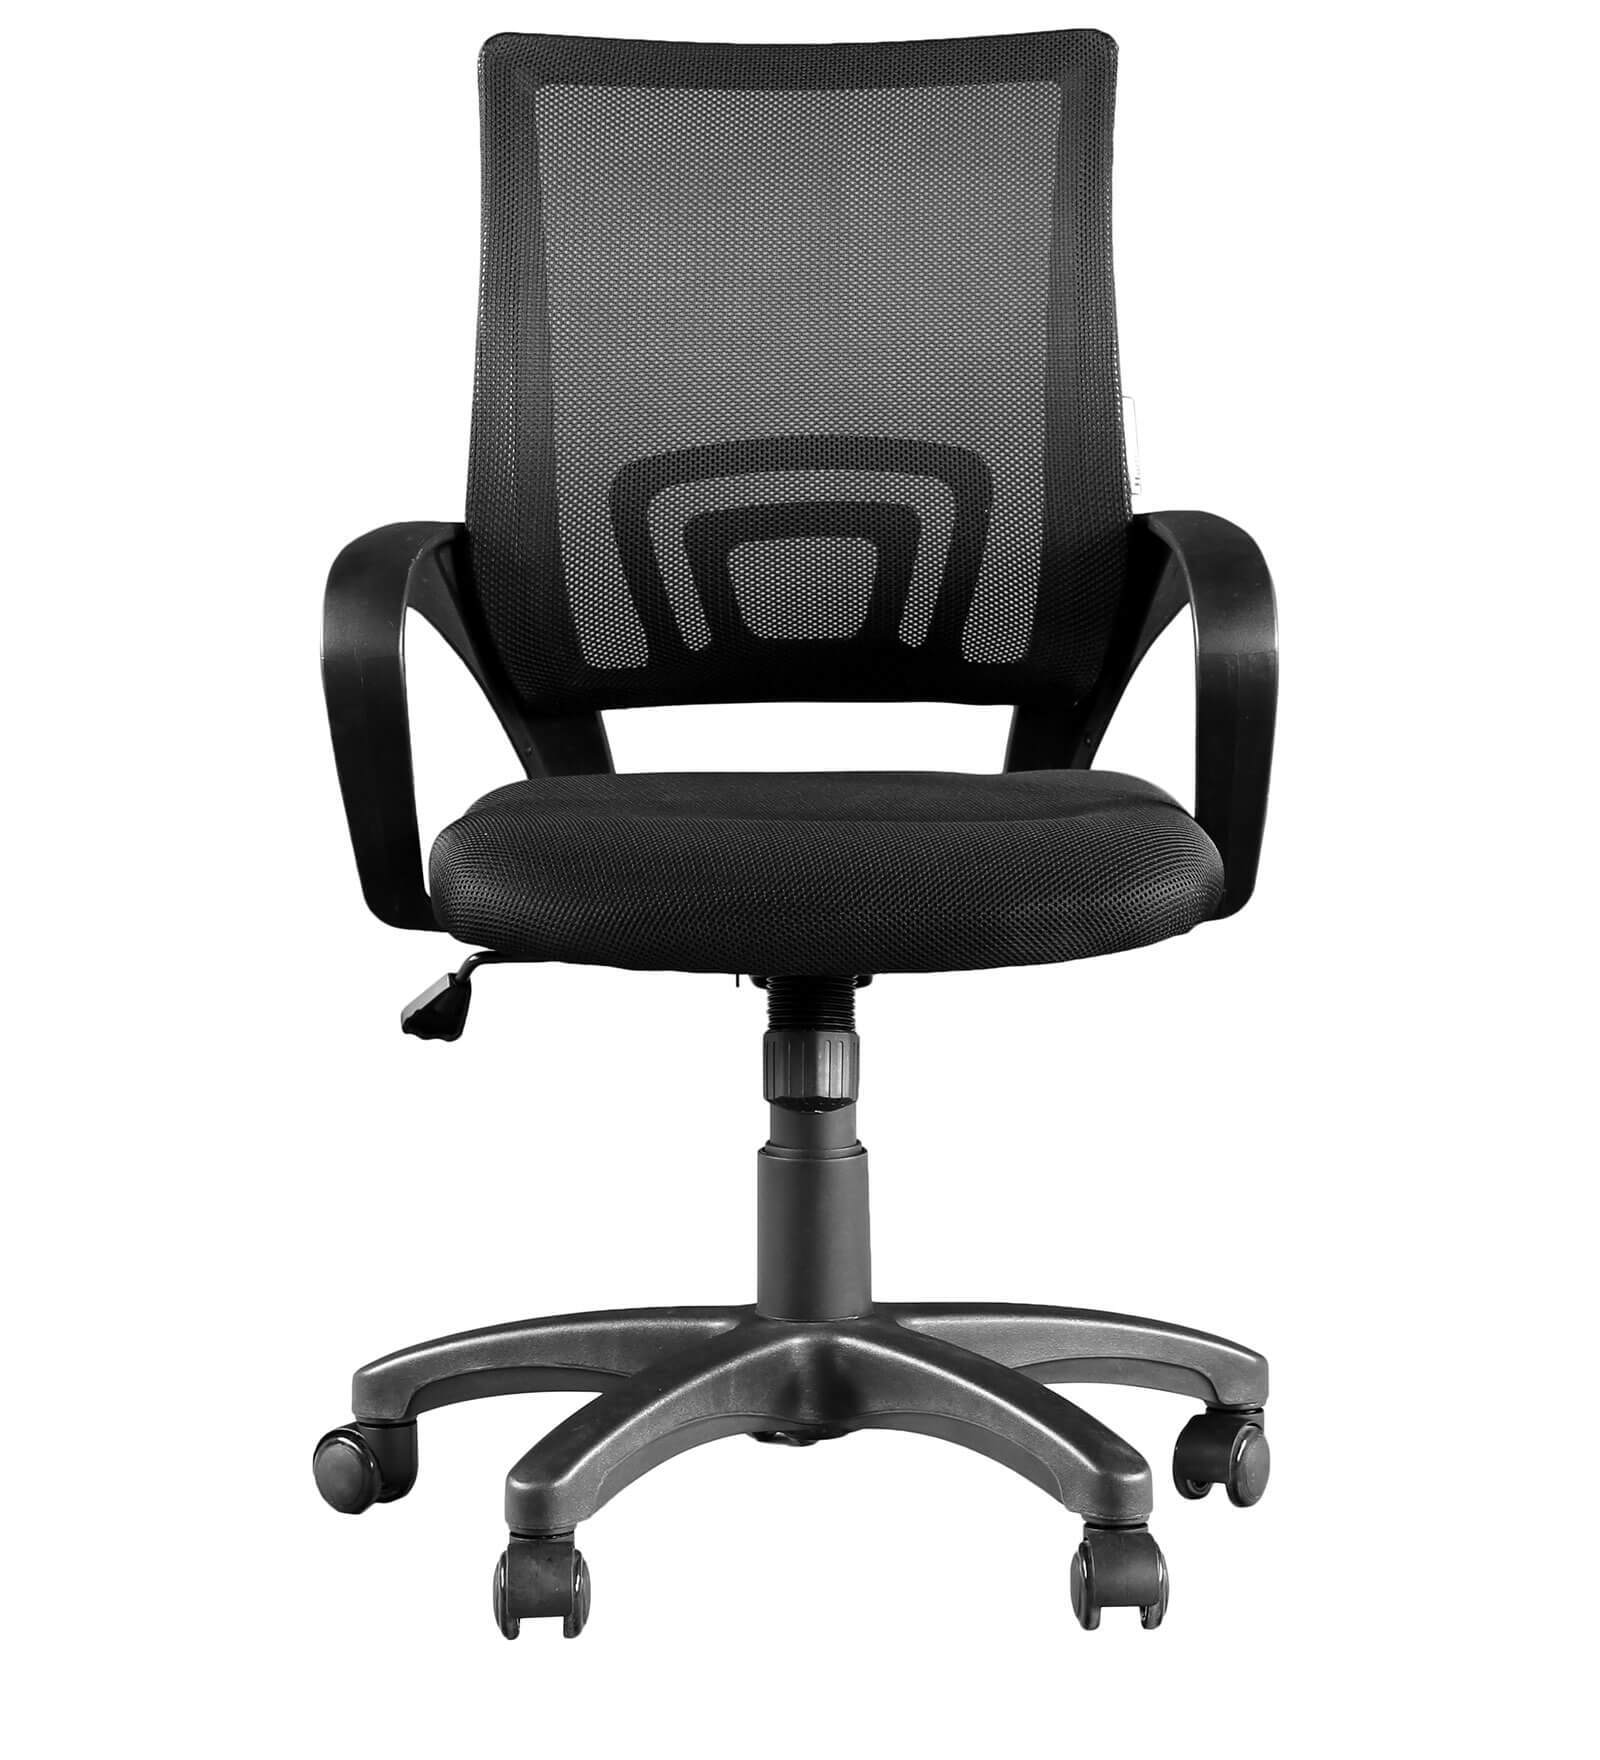Regus Low Back Mesh Chair in Green Colour by Hometown: (257, 20, 1441, 1670)
